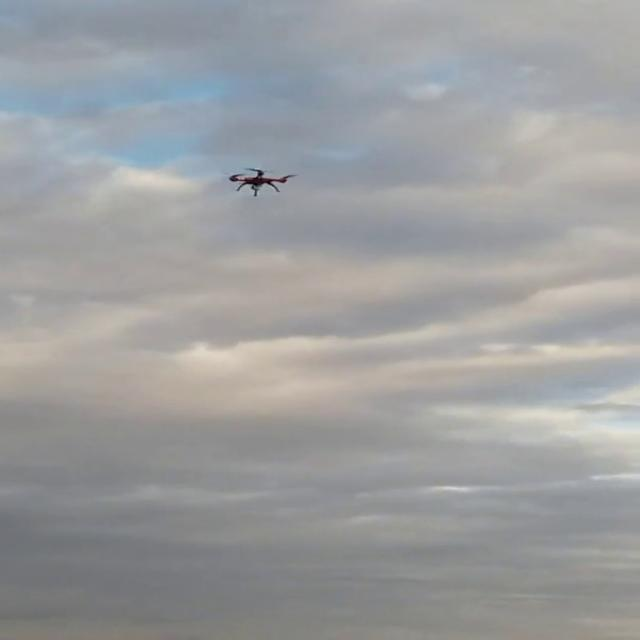drone: (219, 160, 304, 199)
